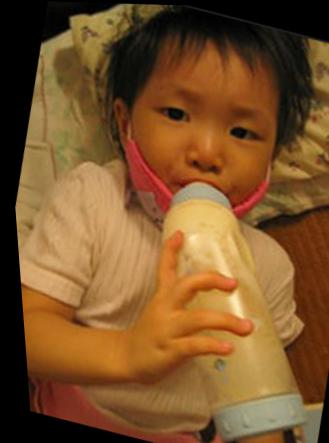WRONG: (109, 54, 295, 246)
